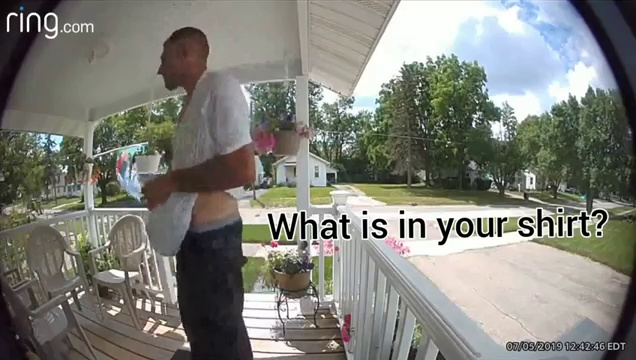face: (157, 42, 180, 87)
